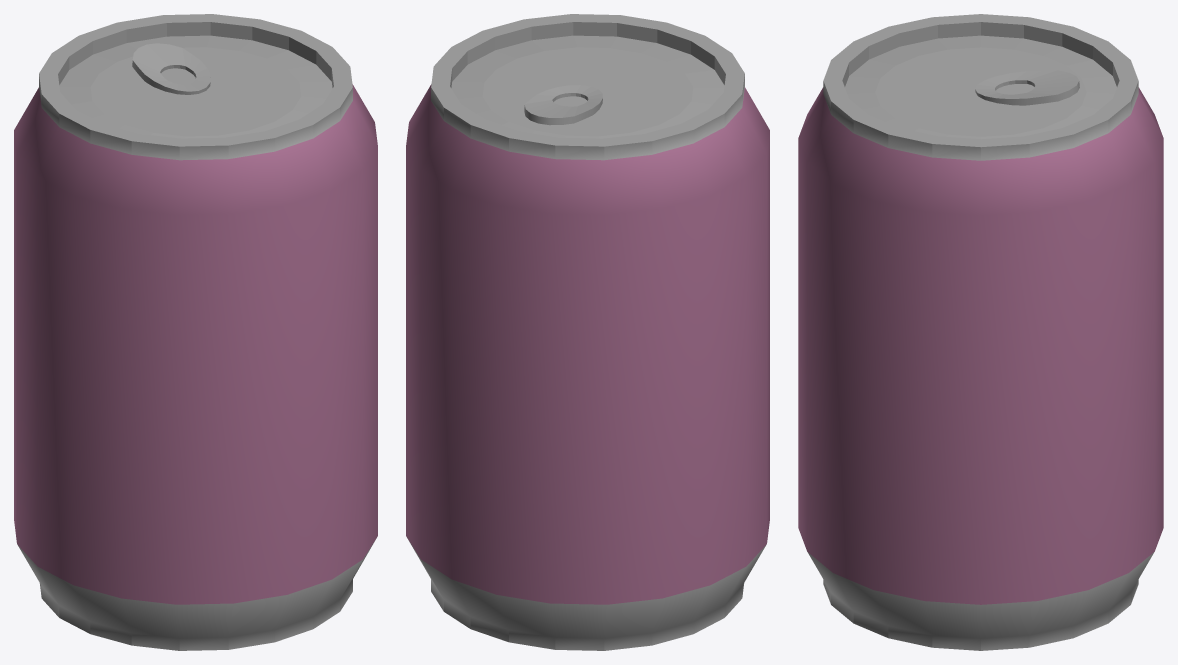
File: DRINK CAN pink.fbx
3 renders of one model, left to right at view 1: azimuth 30°, elevation 25°; view 2: azimuth 150°, elevation 25°; view 3: azimuth 270°, elevation 25°, orthographic.
Visible parts, largest first — view 1: pCylinder1, pCylinder2; view 2: pCylinder1, pCylinder2; view 3: pCylinder1, pCylinder2.
Boxes of the visible parts, x1=… form: pCylinder1: x1=14, y1=14, x2=377, y2=650; pCylinder2: x1=132, y1=43, x2=210, y2=94; pCylinder1: x1=406, y1=14, x2=769, y2=650; pCylinder2: x1=524, y1=85, x2=602, y2=125; pCylinder1: x1=798, y1=14, x2=1163, y2=650; pCylinder2: x1=975, y1=70, x2=1079, y2=105.
Bounding box in the file's own units: 0.02 × 0.0304 × 0.02.
